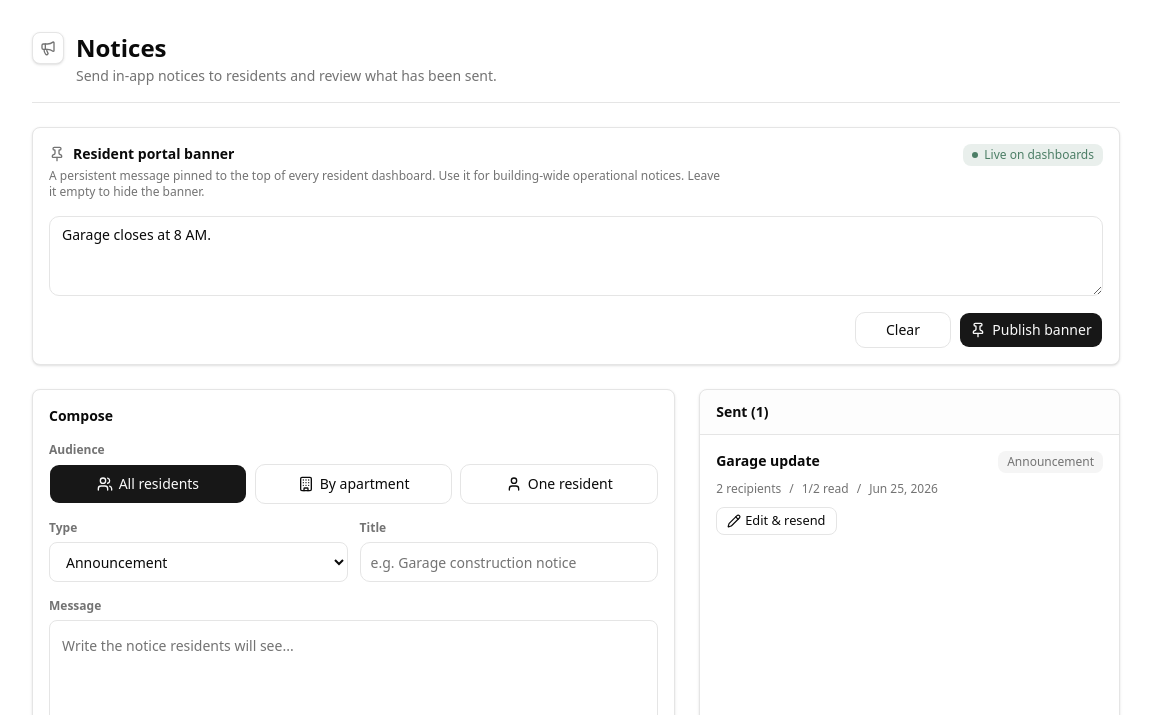
Test: AdminNoticesClient › exposes pressed audience state and the matching target control
Click the button "By apartment" at (354, 484), box [255,464,452,504]
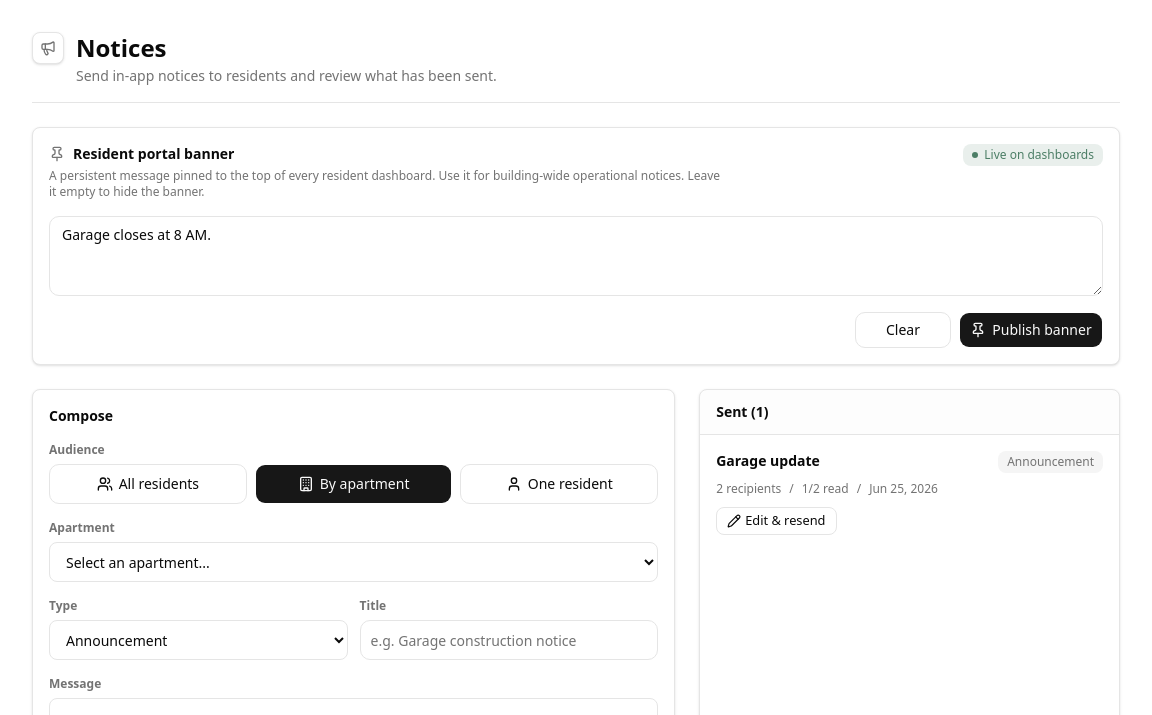
Now the dropdown labelled "Apartment" is shown, box [49,542,658,582]
Click the button "One resident" at (559, 484), box [460,464,658,504]
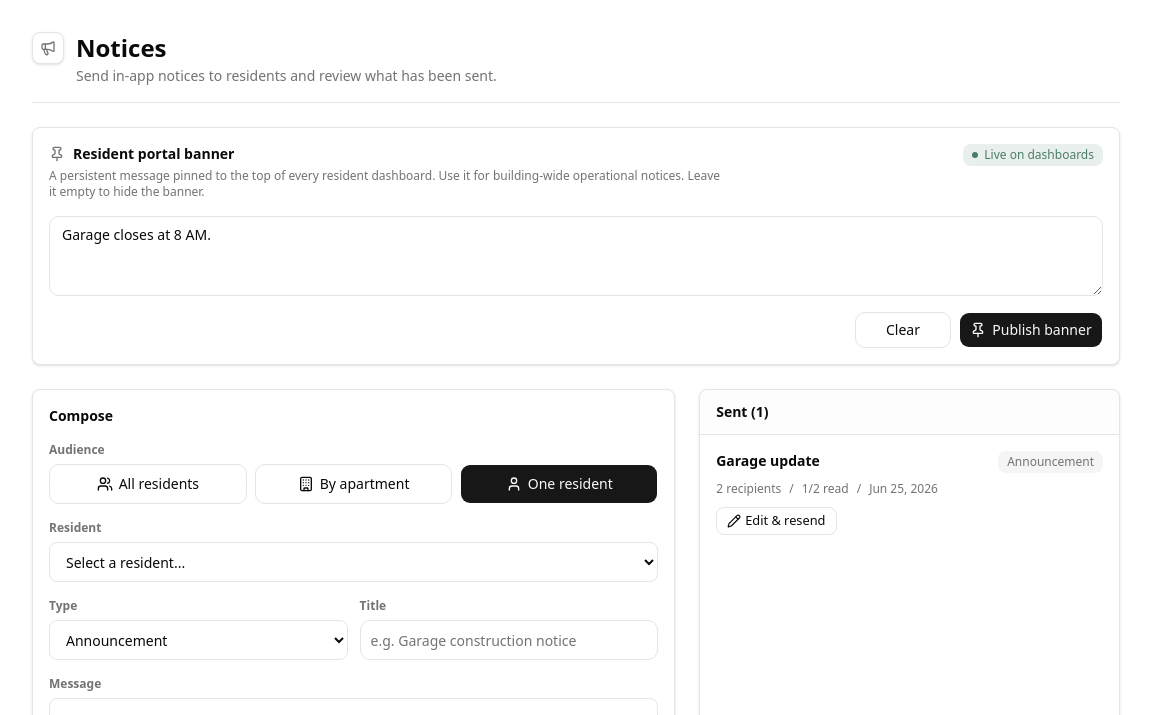
Now the dropdown labelled "Resident" is shown, box [49,542,658,582]
